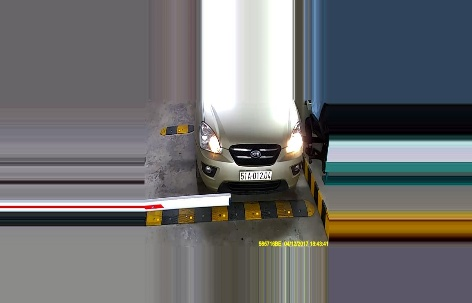plate: (236, 168, 273, 183)
